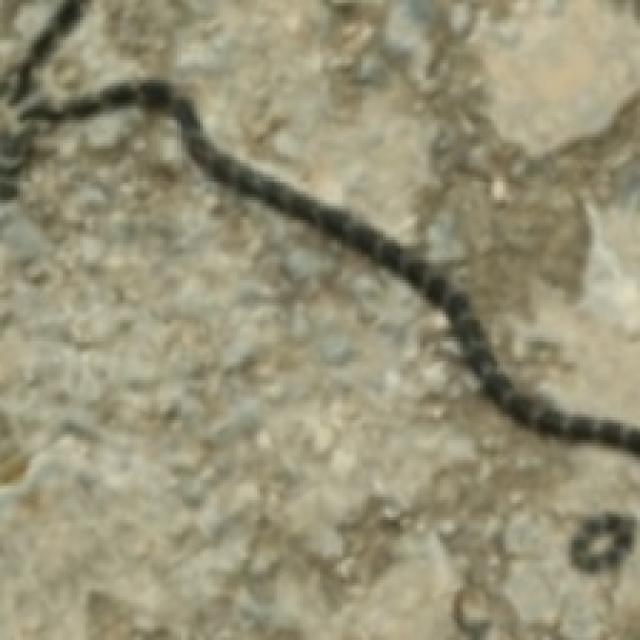king cobra: (21, 81, 640, 454), (9, 0, 83, 99)
